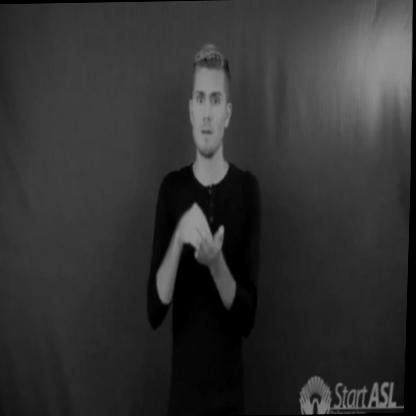Expensive: (171, 188, 237, 298)
